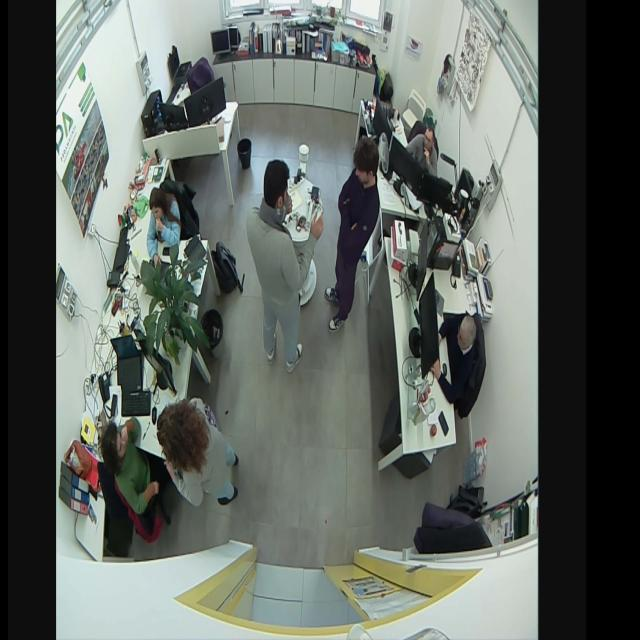Persona: (243, 157, 323, 377), (322, 133, 387, 337), (157, 391, 241, 511), (99, 412, 157, 516), (435, 307, 480, 420), (146, 184, 181, 270), (403, 124, 441, 178)
